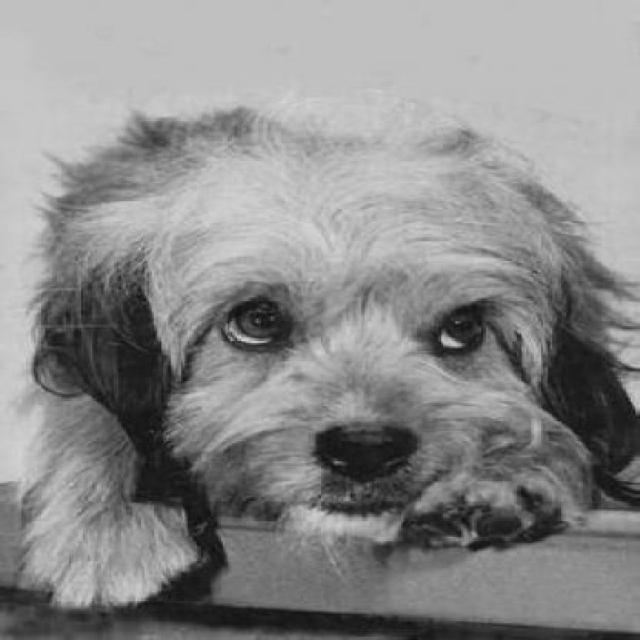Dog: (2, 52, 638, 606)
